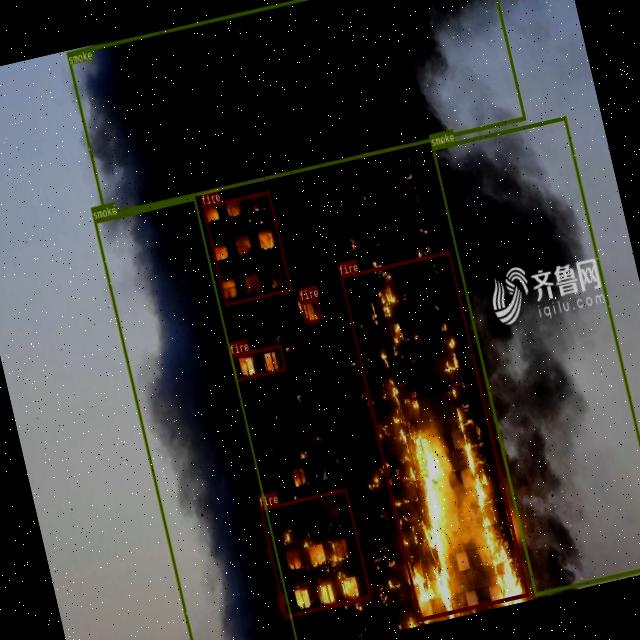fire: (338, 250, 528, 620), (258, 486, 372, 618), (201, 189, 291, 305), (230, 342, 286, 382), (299, 297, 322, 324)
smoke: (430, 116, 640, 596), (65, 0, 525, 216), (93, 195, 298, 640)
